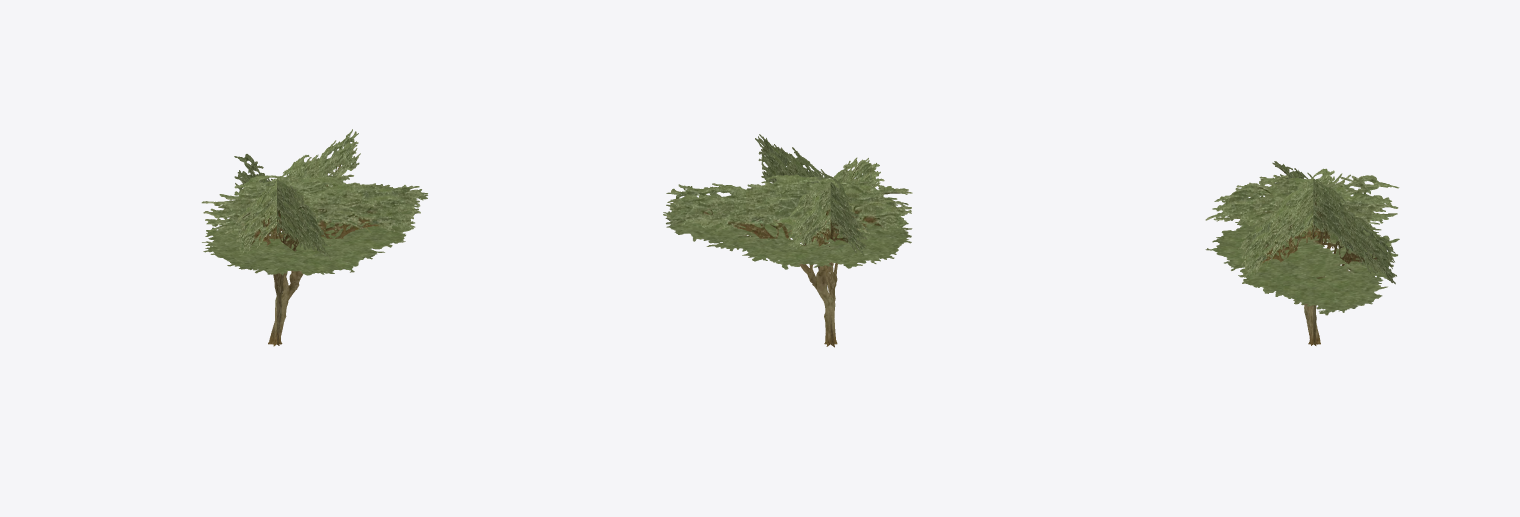
Rendered from plant_acacia_far.glb.
The picture shows the model from 3 angles, left to right: view 1: azimuth 30°, elevation 25°; view 2: azimuth 150°, elevation 25°; view 3: azimuth 270°, elevation 25°; orthographic projection.
Visible parts, largest first — view 1: leaf_acacia_far; view 2: leaf_acacia_far; view 3: leaf_acacia_far.
Part boxes in pixels (box(x1,y1,x2,y2)): leaf_acacia_far: box(201, 129, 427, 346); leaf_acacia_far: box(663, 134, 912, 347); leaf_acacia_far: box(1205, 161, 1399, 345).
Size of the model in its own units: 10.34 by 10.34 by 10.34.
Materials: 1 (1 with a texture image).
